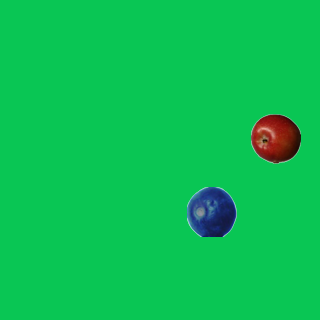Apple Braeburn: (250, 113, 300, 163)
Huckleberry: (186, 186, 236, 236)
